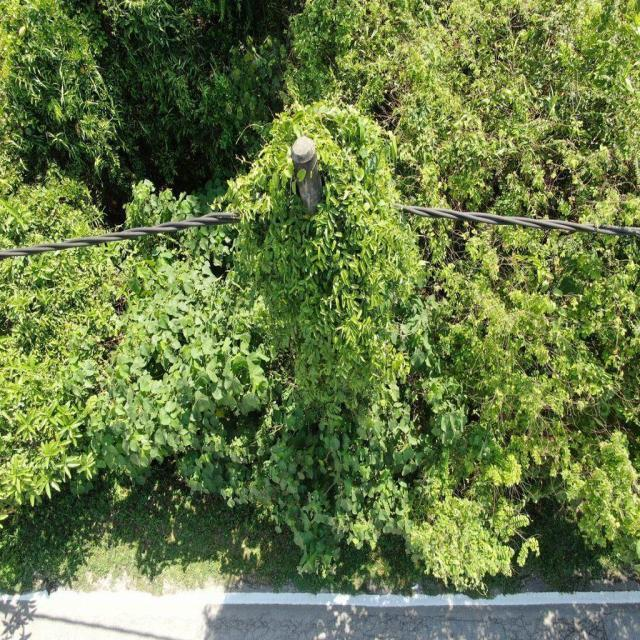critical vegetation: (232, 106, 412, 470)
